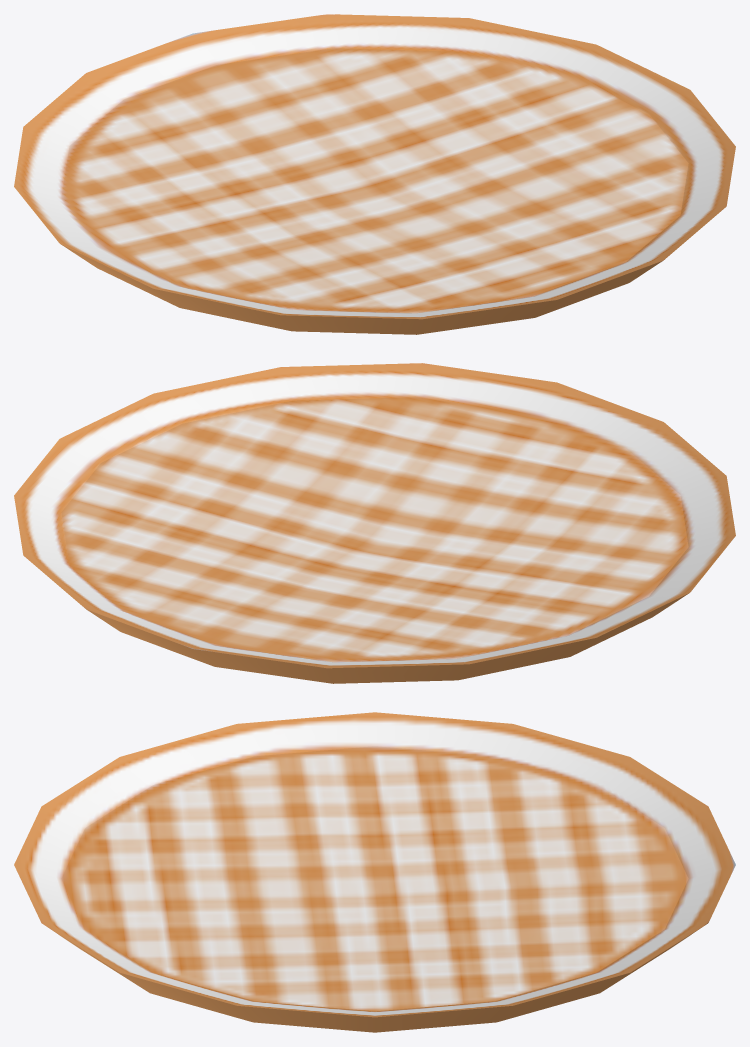
File: SM_Plate_Orange.fbx
The picture shows the model from 3 angles, top to bottom: view 1: azimuth 30°, elevation 25°; view 2: azimuth 150°, elevation 25°; view 3: azimuth 270°, elevation 25°; orthographic projection.
Parts seen in each view (by area): view 1: Cylinder.006; view 2: Cylinder.006; view 3: Cylinder.006.
Part boxes in pixels (left/top/right/bottom): Cylinder.006: left=14, top=14, right=735, bottom=334; Cylinder.006: left=14, top=363, right=735, bottom=683; Cylinder.006: left=14, top=712, right=735, bottom=1032.
Size of the model in its own units: 0.8527 by 0.8527 by 0.0436.
